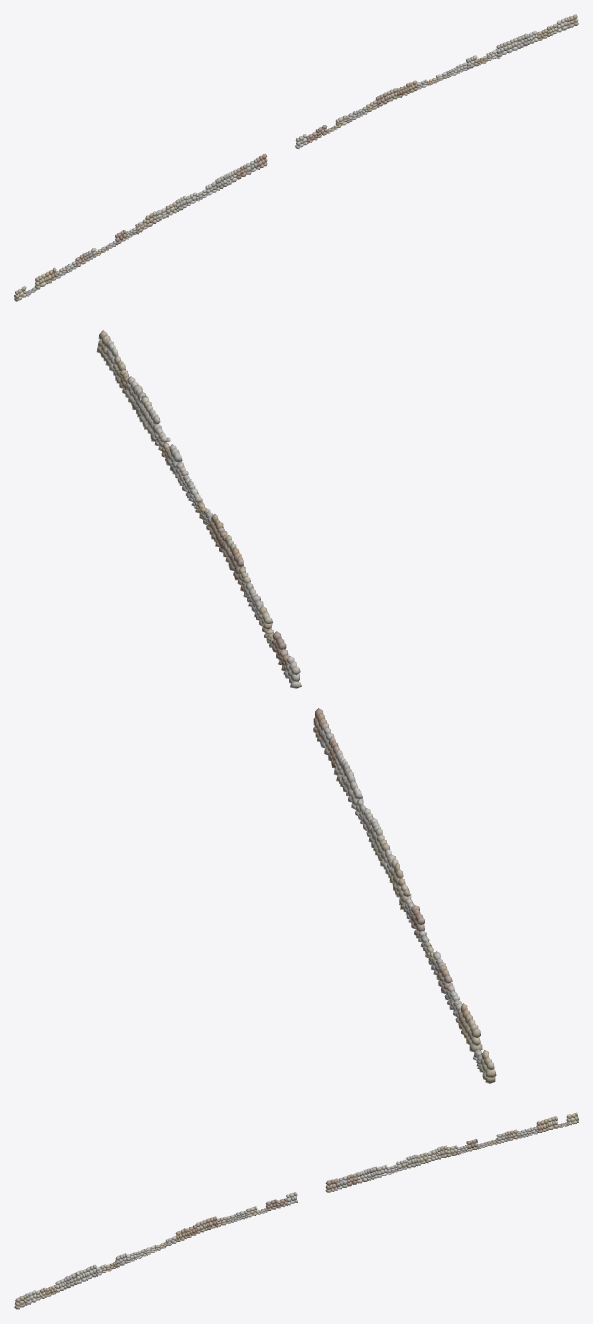
Rendered from farm_2_-5_near.glb.
3 renders of one model, top to bottom at view 1: azimuth 90°, elevation 25°; view 2: azimuth 150°, elevation 25°; view 3: azimuth 270°, elevation 25°, orthographic. The views are drawn at different scales.
Parts seen in each view (by area): view 1: geometry_0; view 2: geometry_0; view 3: geometry_0.
Part boxes in pixels (x1,y1,x2,y2): geometry_0: [14, 14, 578, 301]; geometry_0: [96, 330, 496, 1083]; geometry_0: [14, 1112, 578, 1309].
Bounding box in the file's own units: 62.05 × 7.18 × 63.56.
